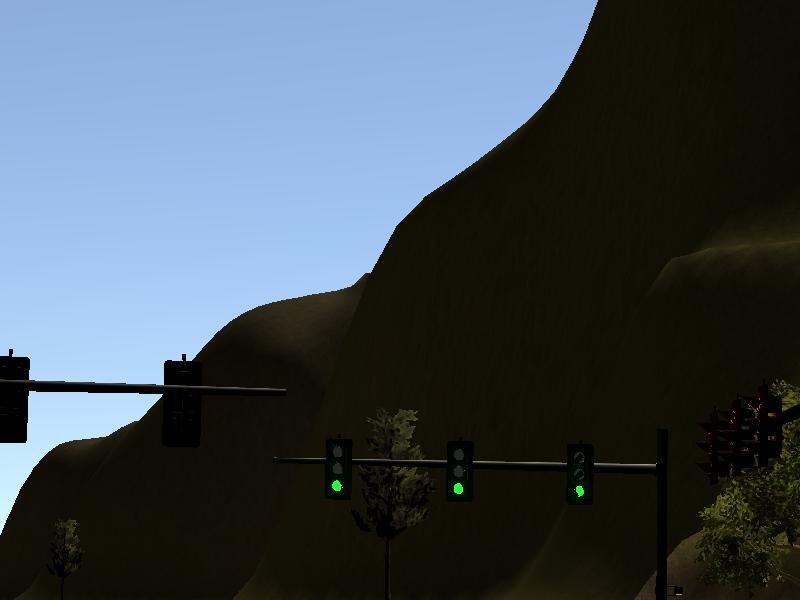green: (566, 444, 596, 507), (446, 443, 474, 504), (326, 440, 353, 502)
